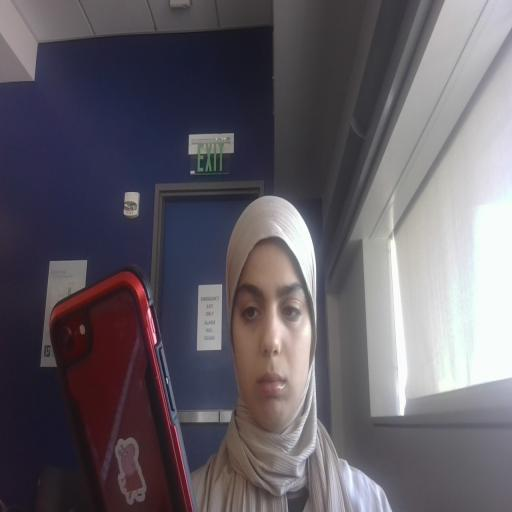phone: (36, 249, 226, 512)
